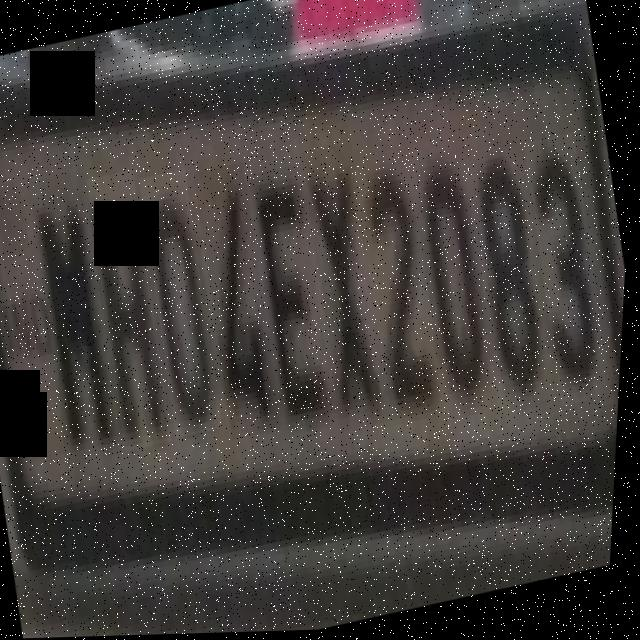0: (130, 169, 237, 440), (407, 149, 518, 399)
3: (515, 134, 627, 412)
4: (184, 162, 298, 443)
8: (457, 149, 570, 414)
E: (241, 165, 351, 437)
H: (77, 168, 188, 454)
M: (17, 170, 137, 467)
X: (291, 144, 407, 436)
